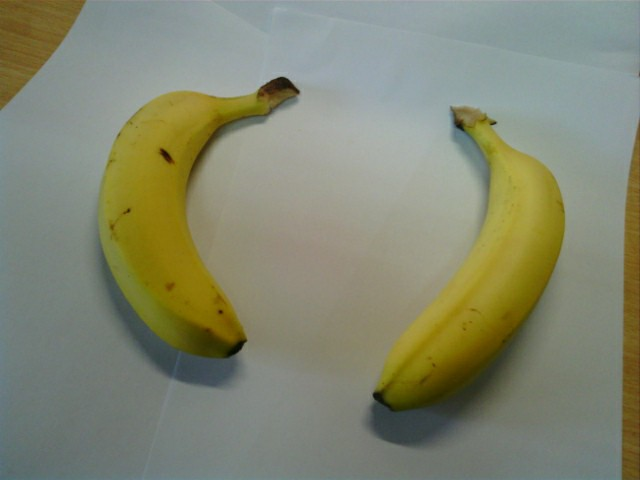fresh_banana: (368, 118, 565, 412)
normal_banana: (98, 84, 251, 356)
